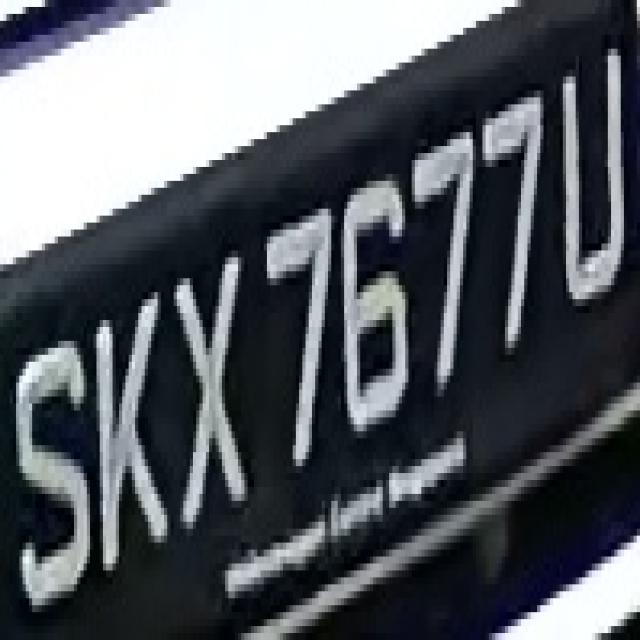6: (325, 146, 418, 445)
7: (241, 195, 341, 480), (463, 76, 550, 382), (396, 119, 479, 404)
K: (80, 272, 170, 564)
S: (7, 306, 94, 598)
U: (547, 14, 630, 327)
X: (160, 223, 248, 522)
